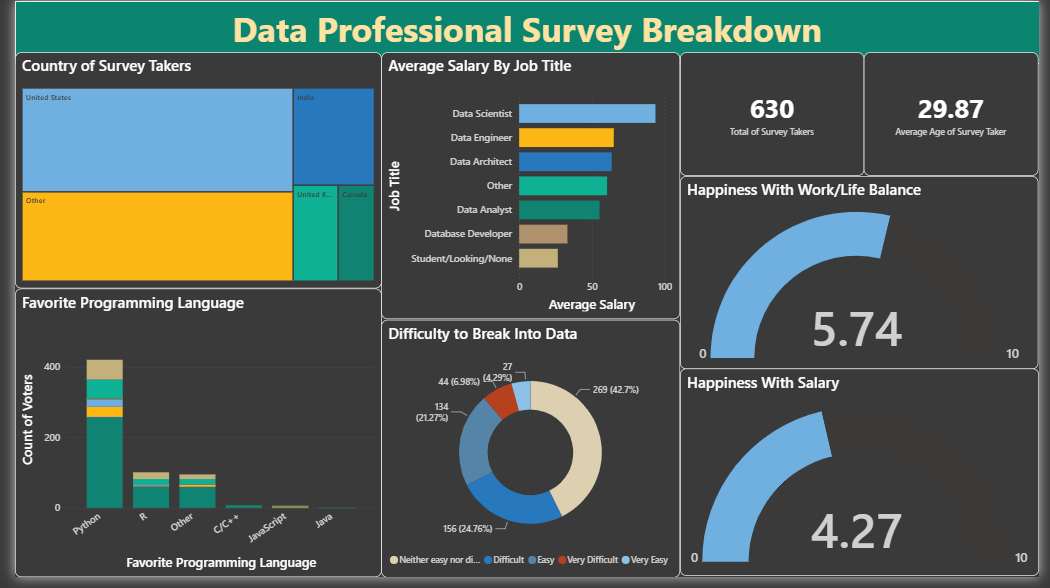

What the dashboard file says about the page in this screenshot:
{"tool":"powerbi","page":{"name":"Page 1","canvas":[1280,720],"ordinal":0},"visuals":[{"type":"textbox","box":[0,0,1280.6,79.2],"z":0},{"type":"cardVisual","fields":{"Data":["Count(Data Professional Survey.Unique ID)"]},"box":[831.4,64.3,230,154.3],"z":1000},{"type":"cardVisual","fields":{"Data":["Avg(Data Professional Survey.Q10 - Current Age)"]},"box":[1061.4,64.3,218.6,154.3],"z":2000},{"type":"barChart","title":"Average Salary By Job Title","fields":{"Category":["Data Professional Survey.Q1 - Which Title Best Fits your Current Role?.1"],"Series":["Data Professional Survey.Q1 - Which Title Best Fits your Current Role?.1"],"Y":["Avg(Data Professional Survey.Average Salary)"]},"box":[458.3,64.5,373.2,333.4],"z":3000},{"type":"columnChart","title":"Favorite Programming Language","fields":{"Category":["Data Professional Survey.Q5 - Favorite Programming Language.1"],"Series":["Data Professional Survey.Q1 - Which Title Best Fits your Current Role?.1"],"Y":["CountNonNull(Data Professional Survey.Unique ID)"]},"box":[0,359.5,458.3,360.9],"z":4000},{"type":"treemap","title":"Country of Survey Takers","fields":{"Group":["Data Professional Survey.Q11 - Which Country do you live in?.1"],"Values":["CountNonNull(Data Professional Survey.Q11 - Which Country do you live in?.1)"]},"box":[0,64.5,458.3,295],"z":5000},{"type":"gauge","title":"Happiness With Work/Life Balance","fields":{"MaxValue":["Max(Data Professional Survey.Q6 - How Happy are you in your Current Position with the following? (Work/Life Balance))2"],"MinValue":["Min(Data Professional Survey.Q6 - How Happy are you in your Current Position with the following? (Work/Life Balance))1"],"Y":["Avg(Data Professional Survey.Q6 - How Happy are you in your Current Position with the following? (Work/Life Balance))"]},"box":[831.7,218.3,448.1,241.3],"z":6000},{"type":"gauge","title":"Happiness With Salary","fields":{"MaxValue":["Max(Data Professional Survey.Q6 - How Happy are you in your Current Position with the following? (Salary))"],"MinValue":["Min(Data Professional Survey.Q6 - How Happy are you in your Current Position with the following? (Salary))"],"Y":["Avg(Data Professional Survey.Q6 - How Happy are you in your Current Position with the following? (Salary))"]},"box":[831.5,460,448.5,259.2],"z":7000},{"type":"donutChart","title":"Difficulty to Break Into Data","fields":{"Category":["Data Professional Survey.Q7 - How difficult was it for you to break into Data?"],"Y":["CountNonNull(Data Professional Survey.Q7 - How difficult was it for you to break into Data?)"]},"box":[458.3,397.9,373.2,322.5],"z":8000}]}

Visuals, with their boxes in screenshot pixels (x1, y1, x2, y2), scaled from the page's 1280x720 canvas onto the 1050x588 screenshot:
textbox: detection(0, 0, 1049, 65)
cardVisual - Count(Data Professional Survey.Unique ID): detection(682, 53, 871, 179)
cardVisual - Avg(Data Professional Survey.Q10 - Current Age): detection(871, 53, 1049, 179)
"Average Salary By Job Title" barChart: detection(376, 53, 682, 325)
"Favorite Programming Language" columnChart: detection(0, 294, 376, 587)
"Country of Survey Takers" treemap: detection(0, 53, 376, 294)
"Happiness With Work/Life Balance" gauge: detection(682, 178, 1049, 375)
"Happiness With Salary" gauge: detection(682, 376, 1049, 587)
"Difficulty to Break Into Data" donutChart: detection(376, 325, 682, 587)
